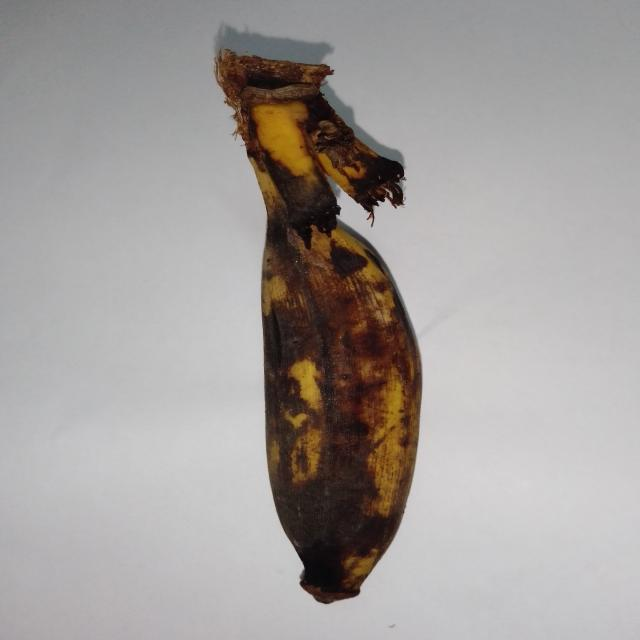banana: (216, 51, 421, 602)
